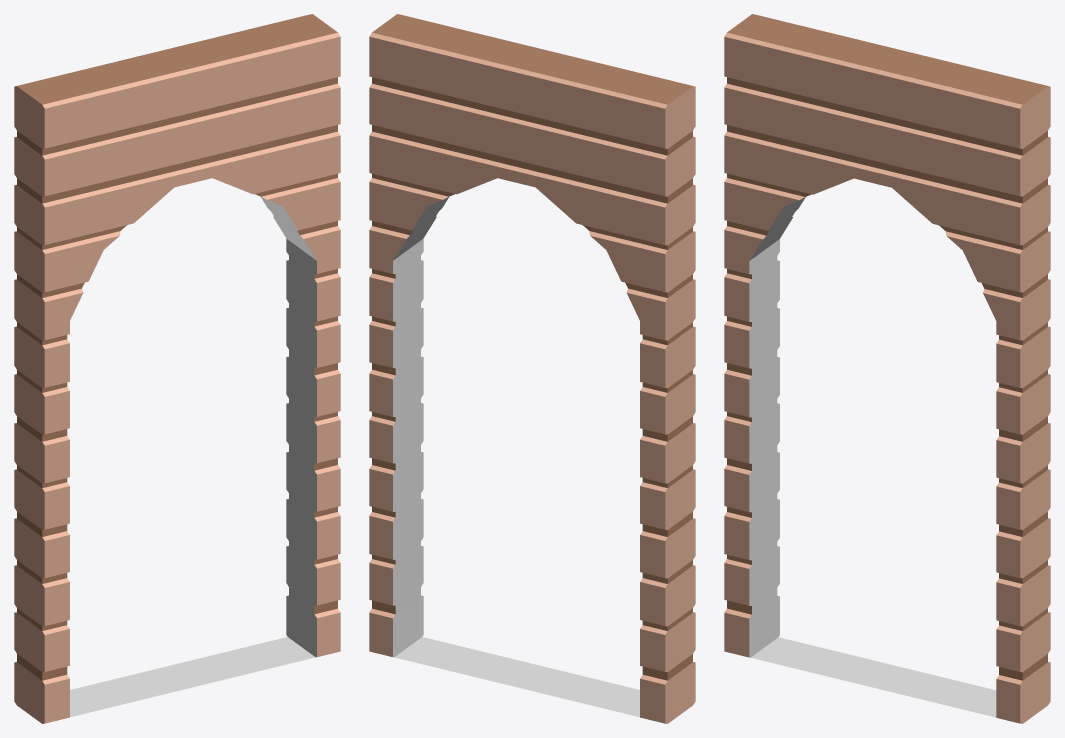
The model's file is HorizontalBoardDoorframe.glb.
3 renders of one model, left to right at view 1: azimuth 30°, elevation 25°; view 2: azimuth 150°, elevation 25°; view 3: azimuth 330°, elevation 25°, orthographic.
Visible parts, largest first — view 1: wall_horizontalBoard_door; view 2: wall_horizontalBoard_door; view 3: wall_horizontalBoard_door.
Part boxes in pixels (x1=…): wall_horizontalBoard_door: x1=14, y1=14, x2=340, y2=723; wall_horizontalBoard_door: x1=369, y1=14, x2=695, y2=723; wall_horizontalBoard_door: x1=724, y1=14, x2=1050, y2=723.
Size of what is drawn, in the model's own units: 2 by 4 by 0.3569.
Materials: 1 (1 with a texture image).
